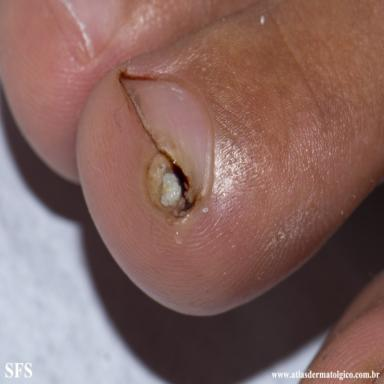Tungiasis: (144, 154, 194, 218), (260, 15, 265, 24), (203, 207, 209, 213)
